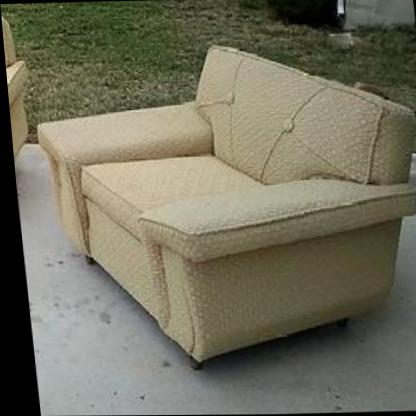Sofa: (22, 40, 416, 372)
